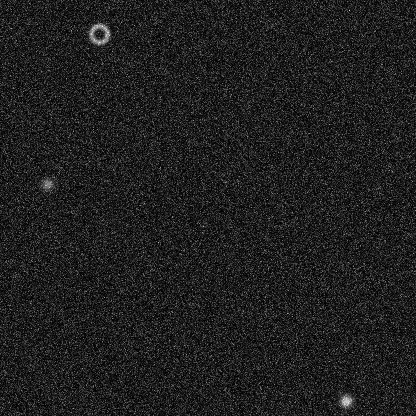Ring: (87, 21, 111, 45)
Spot: (39, 176, 55, 192), (337, 392, 353, 408)
